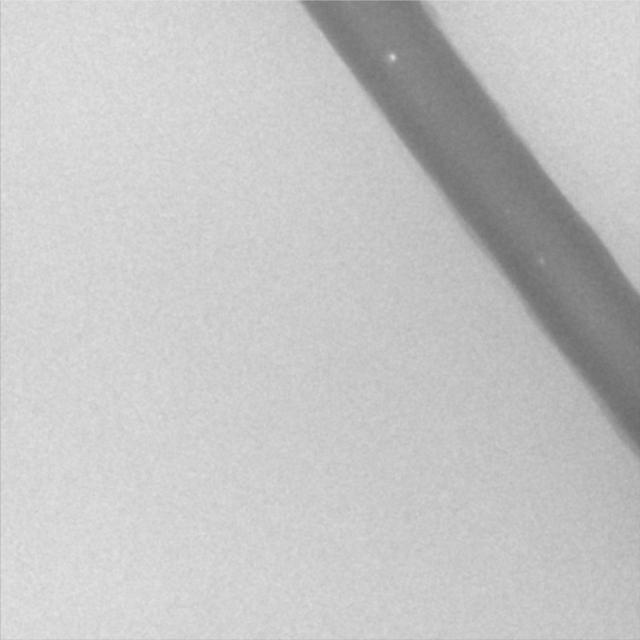air hole: (386, 51, 396, 64)
